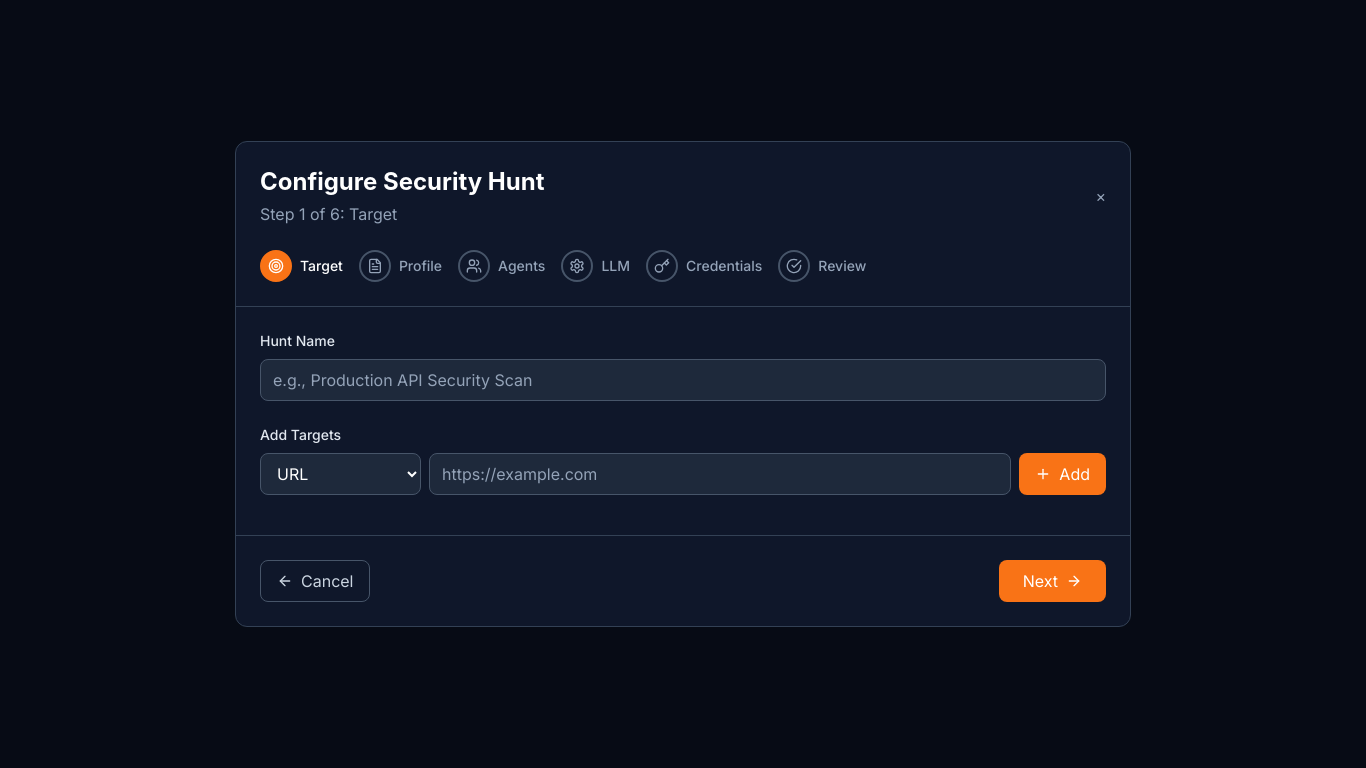
Test case: HuntConfigurationWizard › shows review summary before starting hunt
Fill in all required information
Type "Test Hunt" into the field with placeholder "e.g., Production API Security Scan".
click(683, 380); type("Test Hunt")  # box [260, 359, 1106, 401]
Type "https://test.com" into the field with placeholder "https://example.com".
click(720, 474); type("https://test.com")  # box [429, 453, 1011, 495]
Click the button "Add".
click(1063, 474)  # box [1019, 453, 1106, 495]
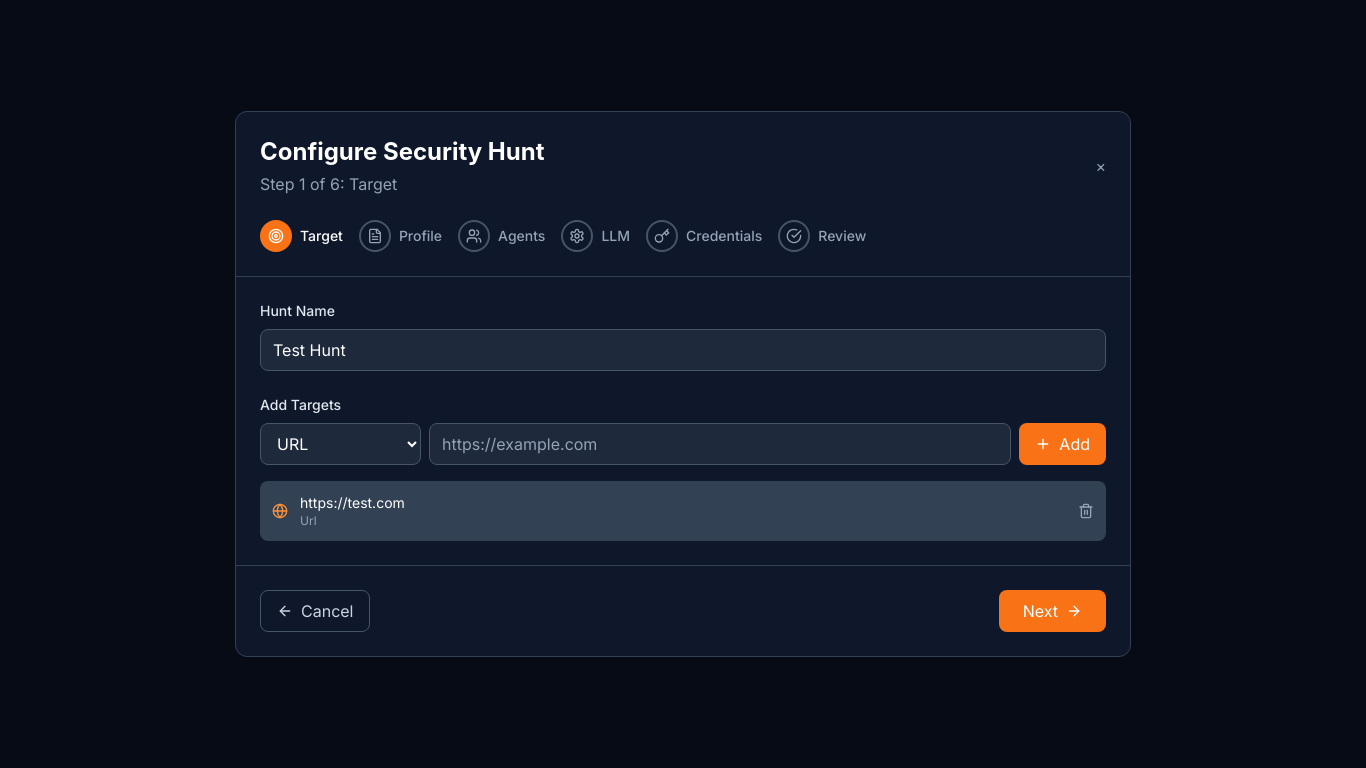
Navigate to review step
Click the button "Next".
click(1052, 611)  # box [999, 590, 1106, 632]
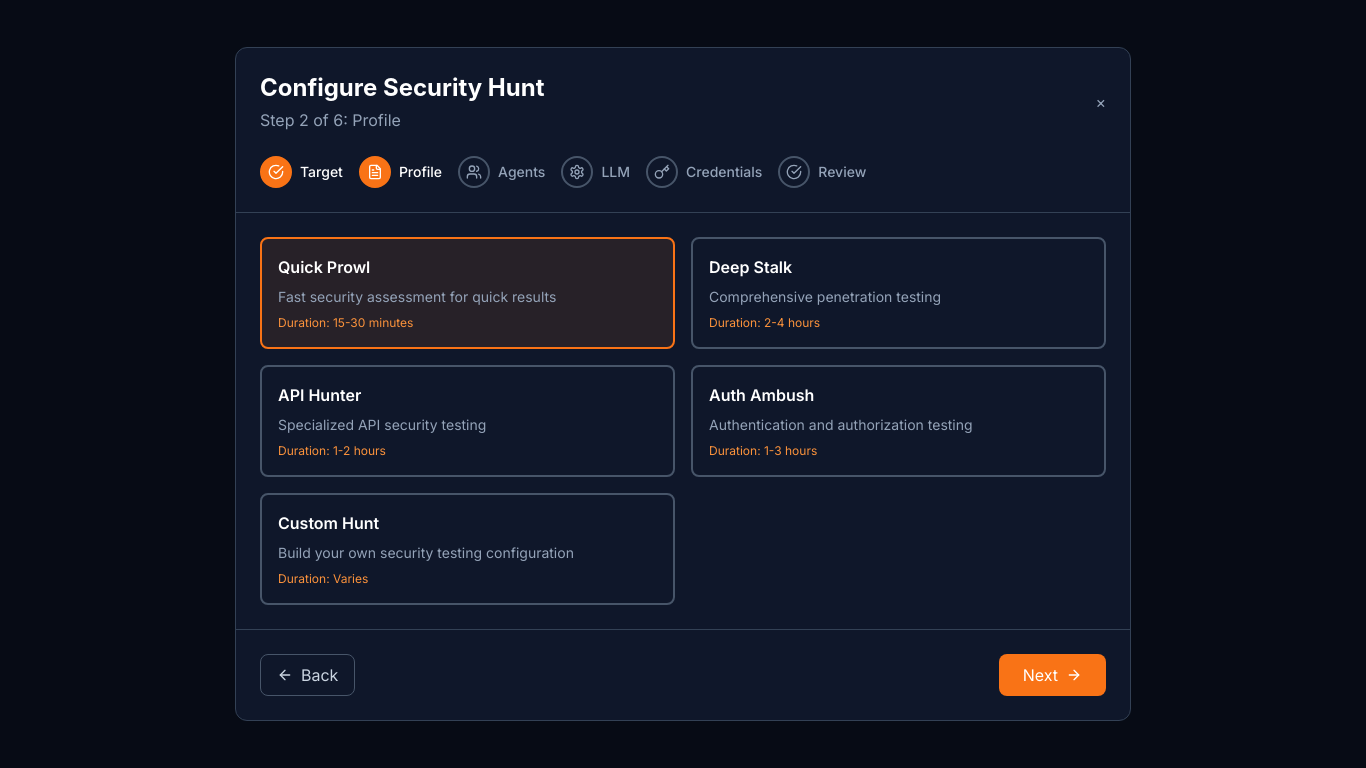
Click the button "Next".
click(1052, 675)  # box [999, 654, 1106, 696]
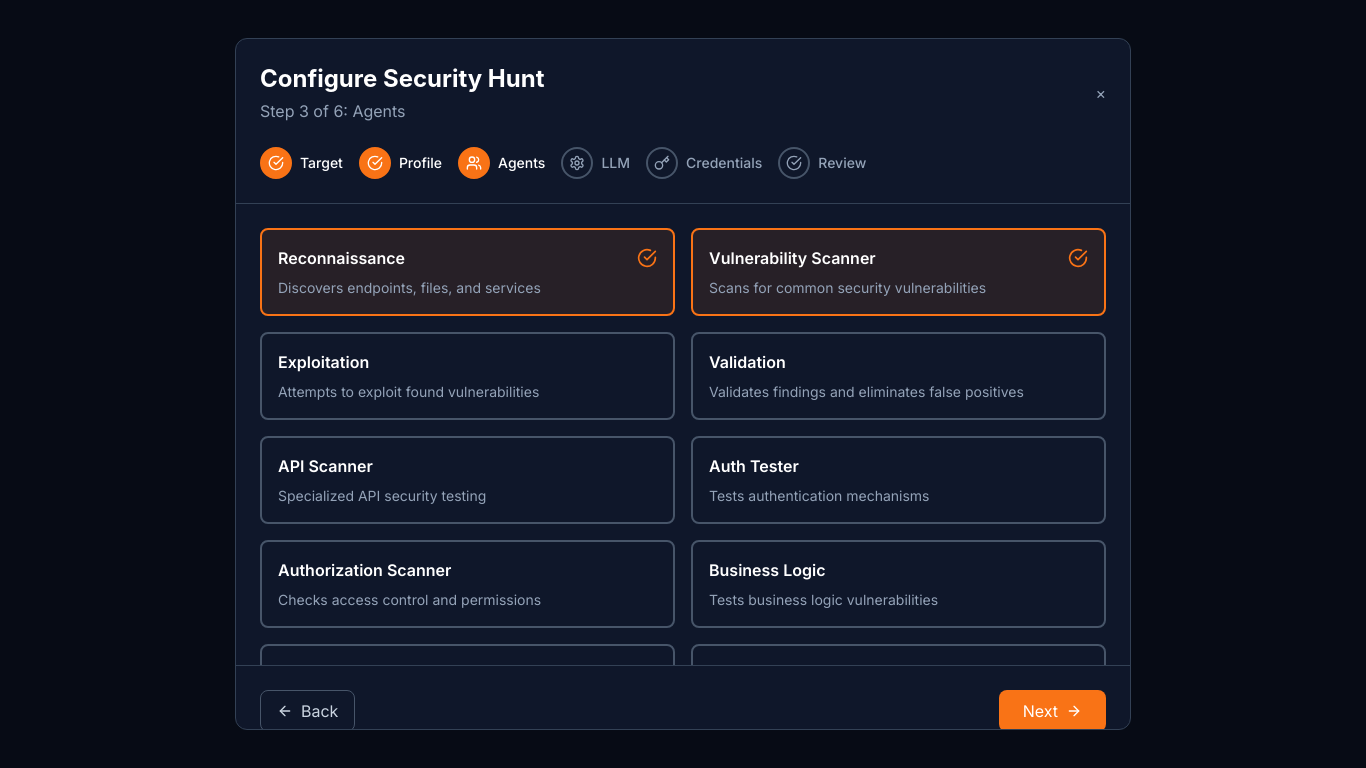
Click the button "Next".
click(1052, 711)  # box [999, 690, 1106, 732]
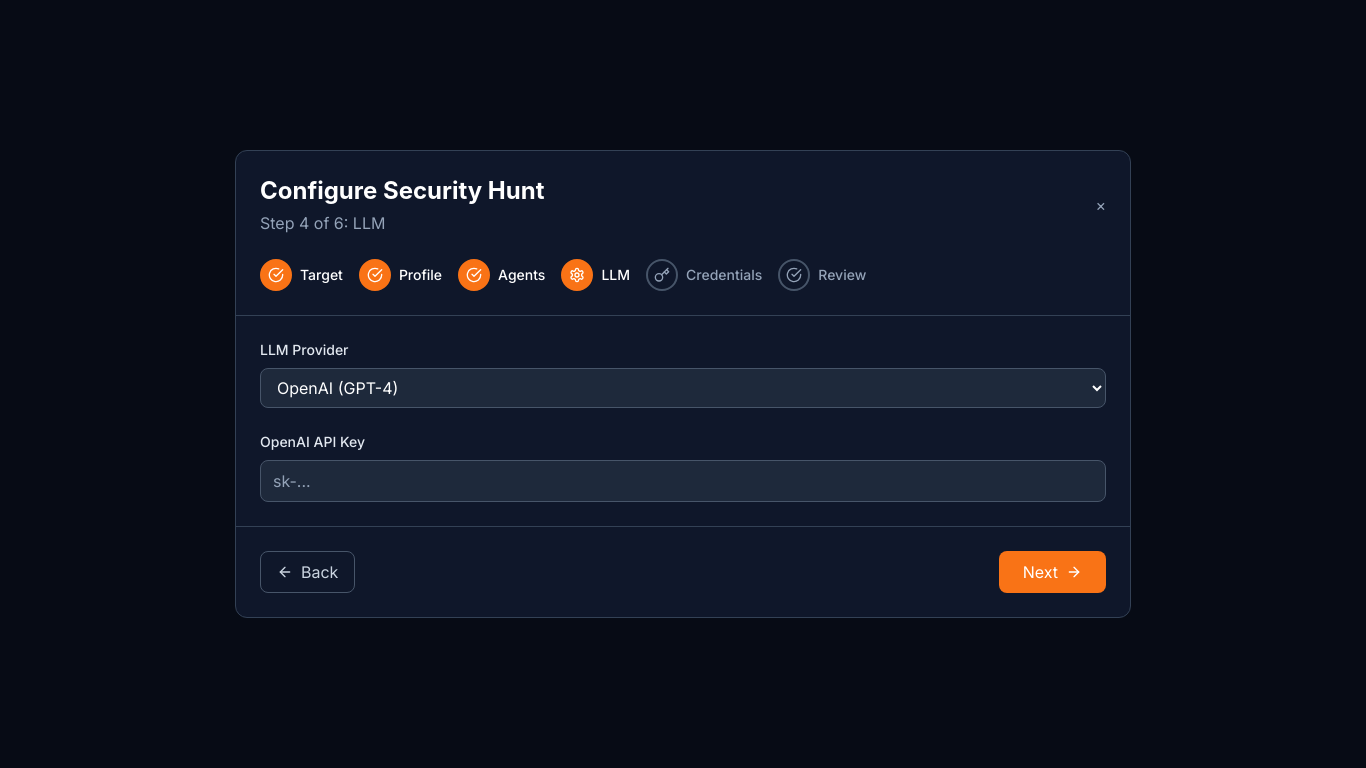
Click the button "Next".
click(1052, 572)  # box [999, 551, 1106, 593]
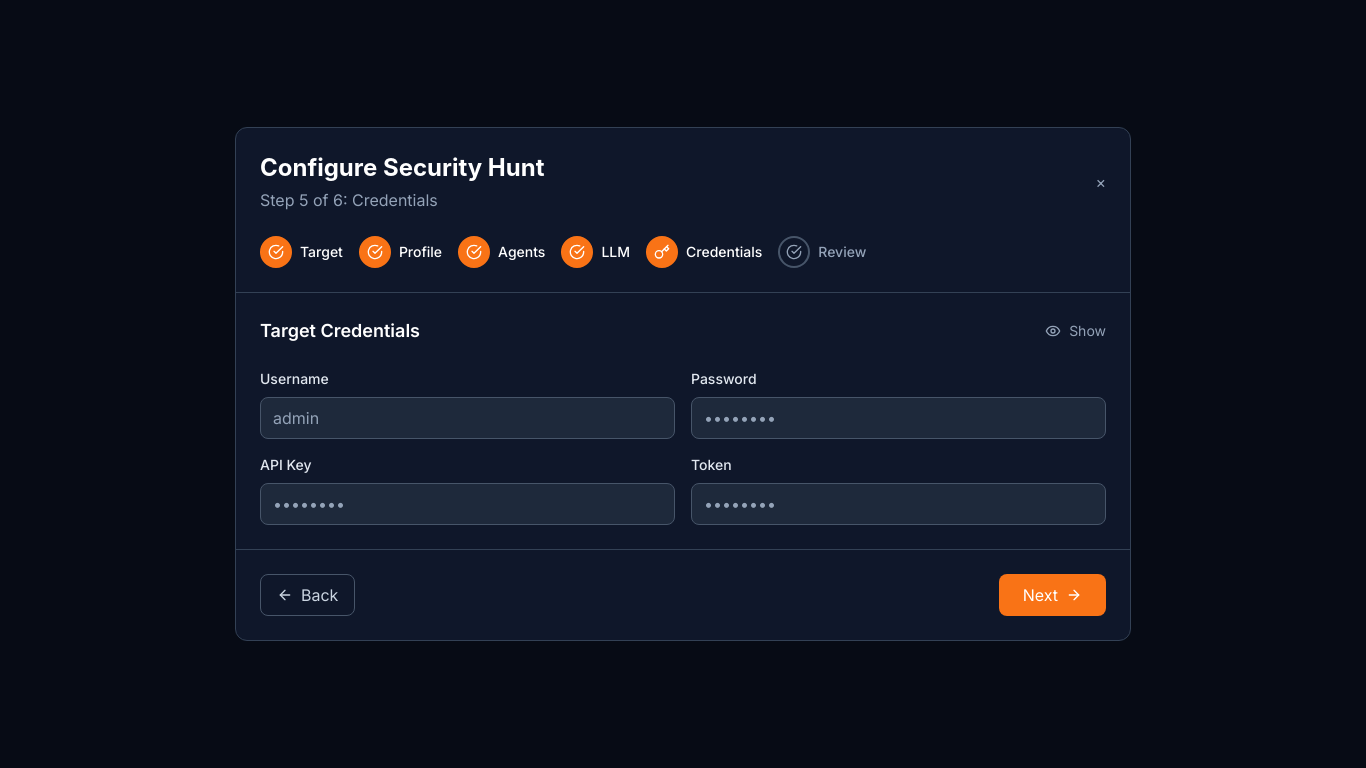
Click the button "Next".
click(1052, 595)  # box [999, 574, 1106, 616]
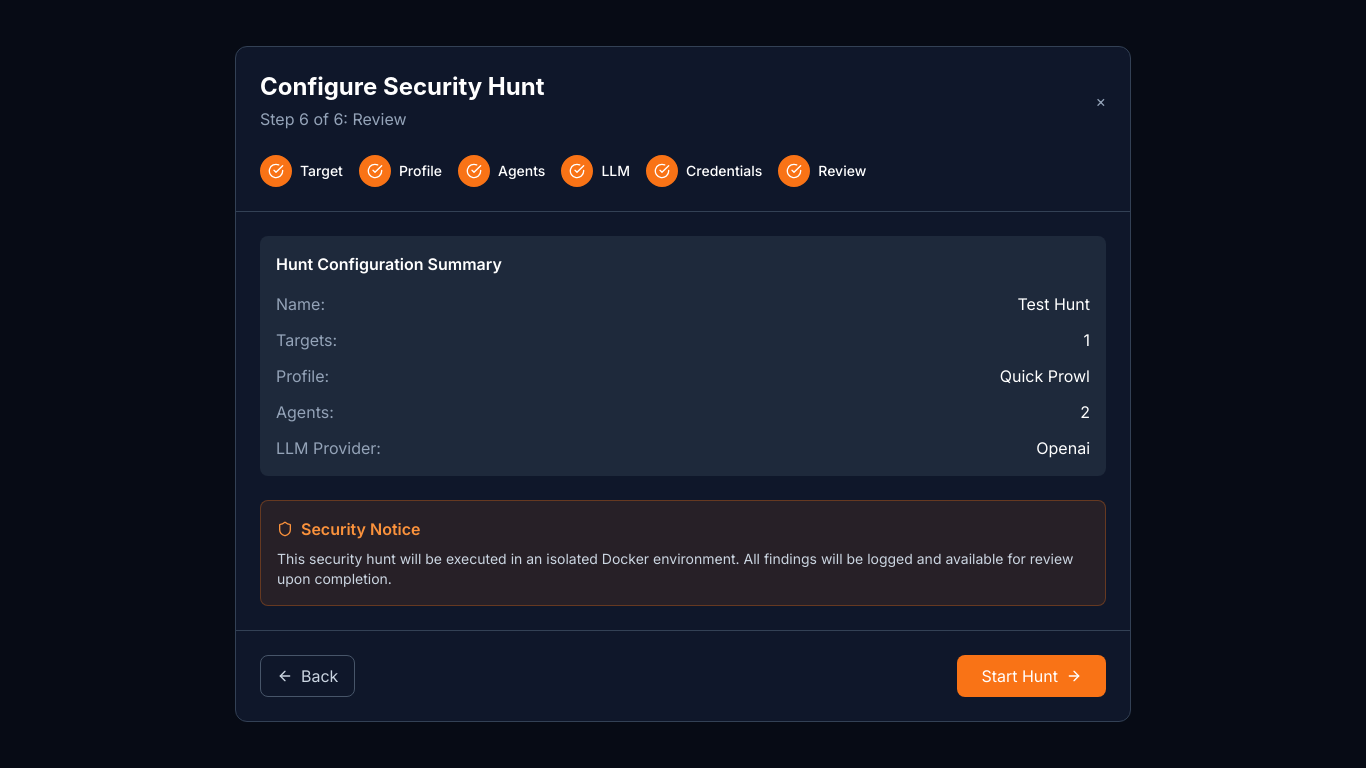
Expected: the text "Step 6 of 6: Review" is shown, [260, 109, 406, 129]
Expected: the heading "Hunt Configuration Summary" is shown, [276, 254, 502, 274]
Expected: the text "Test Hunt" is shown, [1017, 292, 1090, 316]
